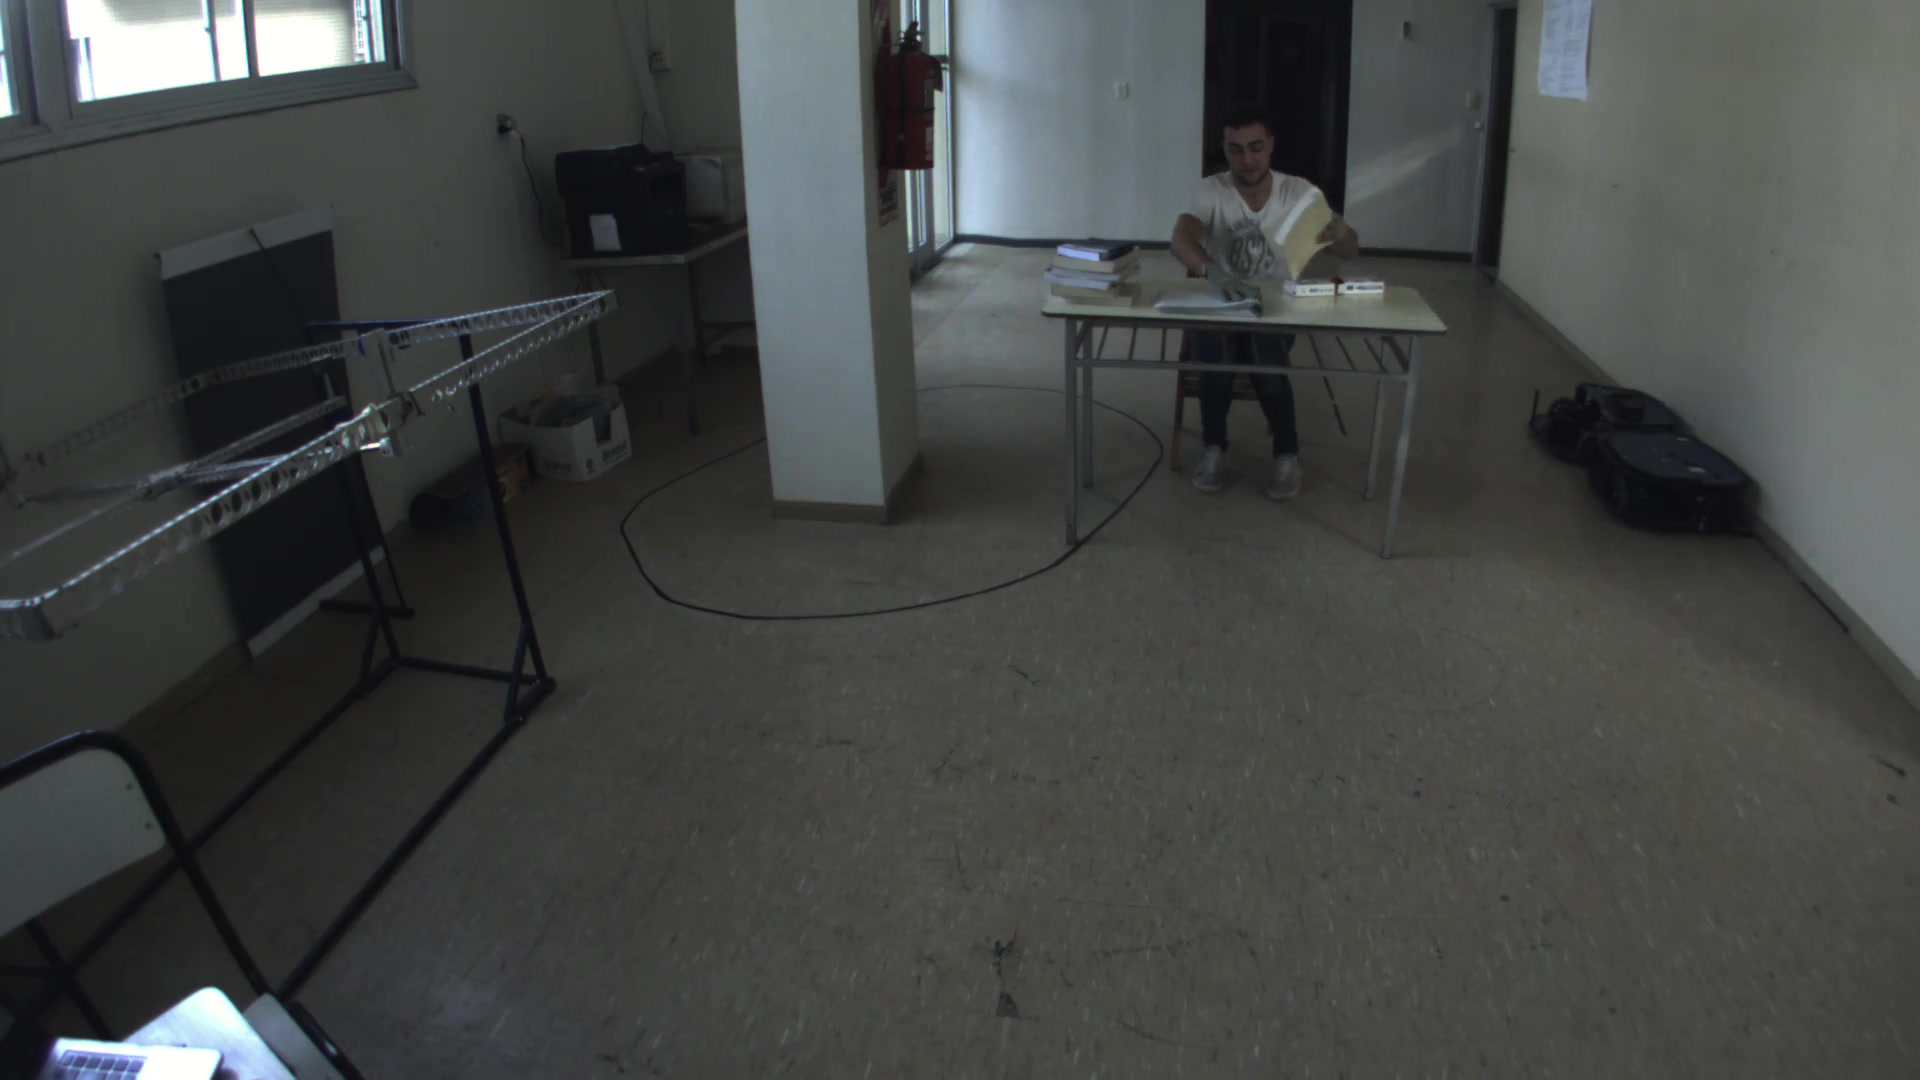hand: (1200, 256, 1261, 311), (1308, 216, 1364, 258)
